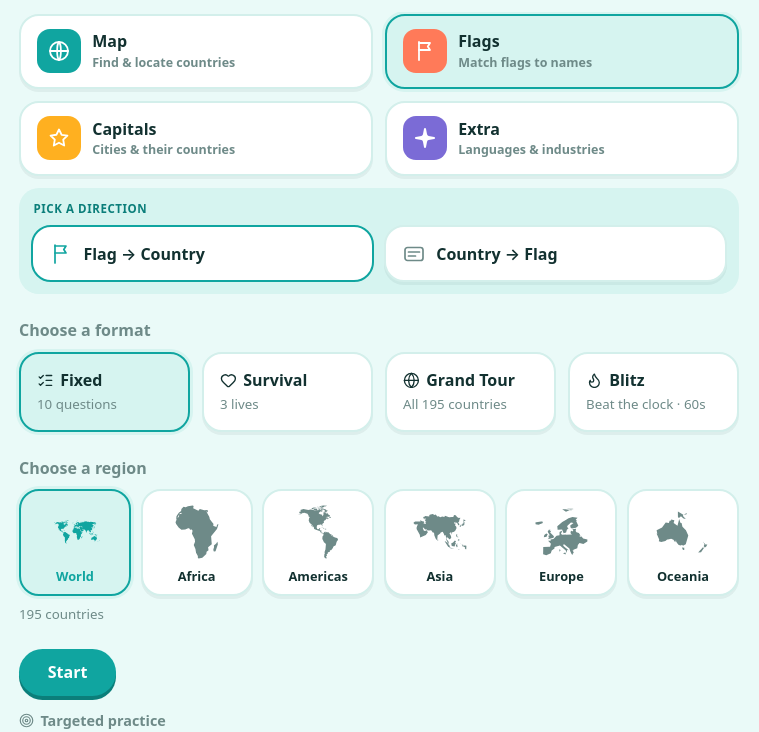
Test case: Play route › groups modes into families and swaps the direction options when a family is picked
The width and height of the screenshot is (759, 732).
(page scrolled)
Check: the text "Flag → Country" is shown, box [83,242,205,266]
Check: the text "Country → Flag" is shown, box [436,242,558,266]
Note: Selecting the Map family reveals its directions and hides the Flags ones.
Click the button "Map Find & locate countries".
click(59, 51)  # box [19,14,373,89]
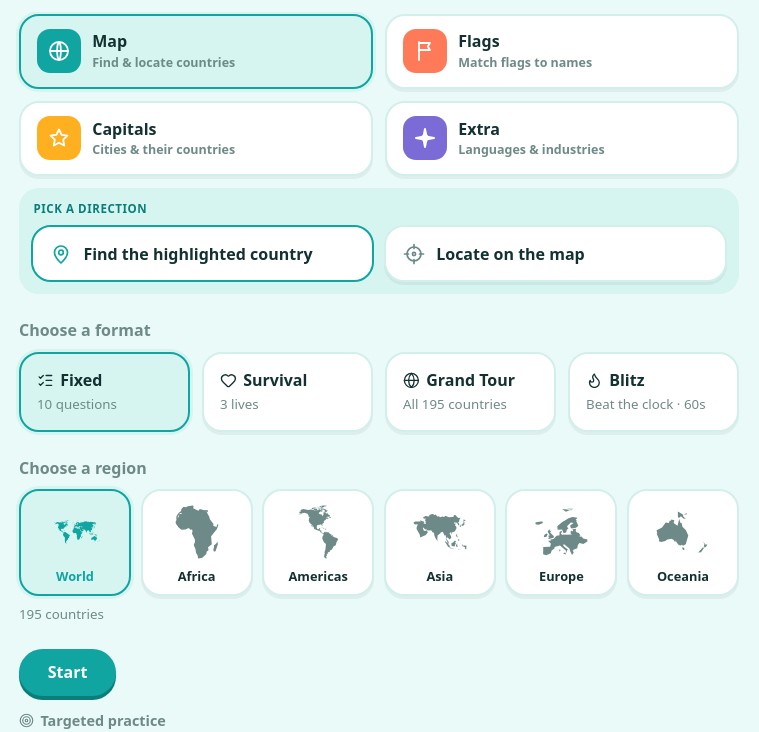
Check: the text "Find the highlighted country" is shown, box [83,242,312,266]
Check: the text "Locate on the map" is shown, box [436,242,585,266]
Check: the button "Flag → Country" is gone
Note: Capitals and Extra families are reachable and reveal their own two directions.
Click the button "Capitals Cities & their countries".
click(59, 138)  # box [19,101,373,176]
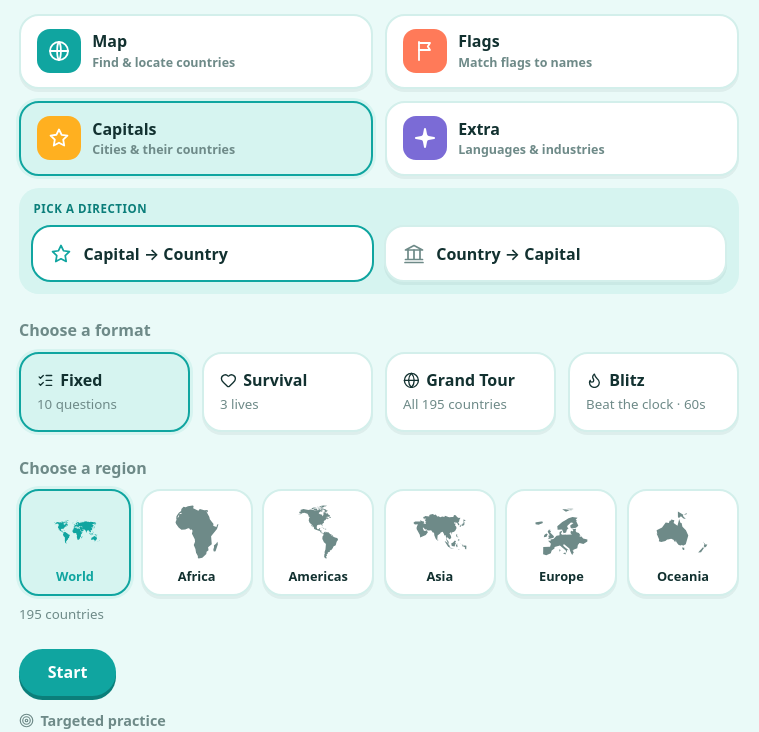
Check: the text "Capital → Country" is shown, box [83,242,228,266]
Check: the text "Country → Capital" is shown, box [436,242,581,266]
Click the button "Extra Languages & industries".
click(425, 138)  # box [385,101,739,176]
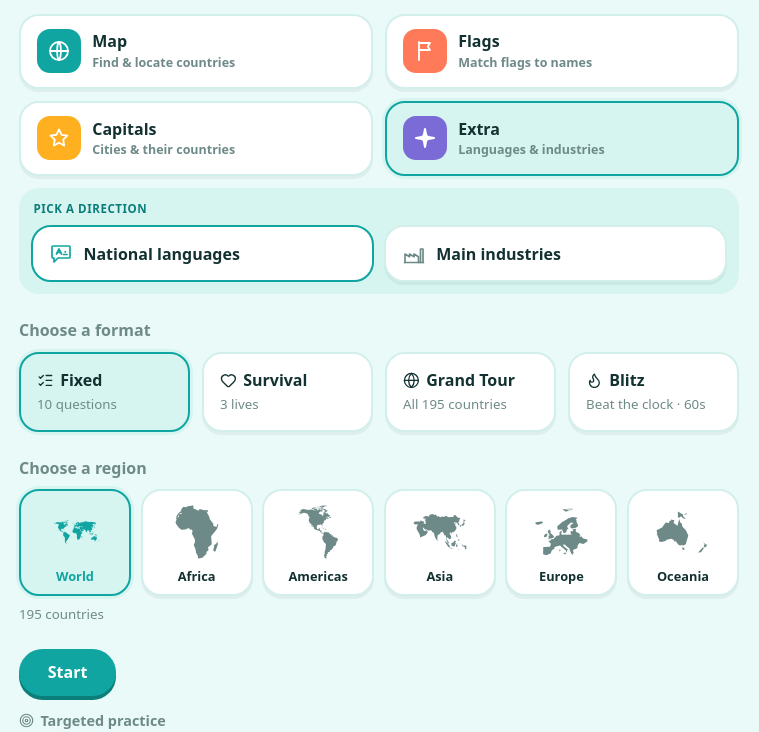
Check: the text "National languages" is shown, box [83,242,240,266]
Check: the text "Main industries" is shown, box [436,242,561,266]
